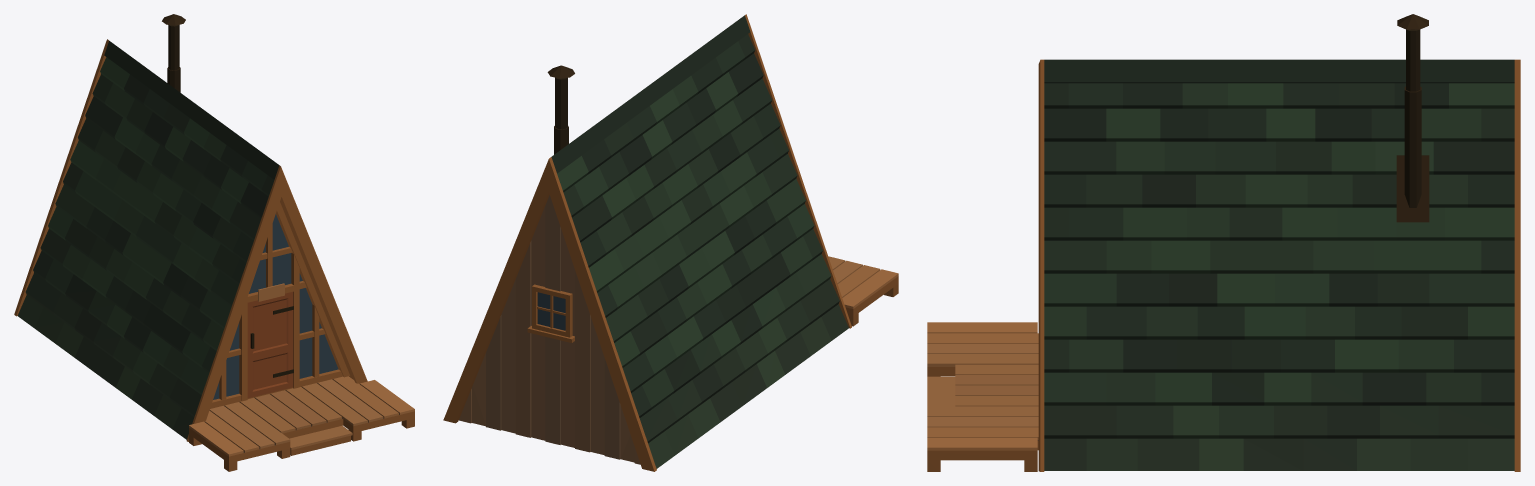
File: a-frame-cabin-6cb550.glb
3 views of the same model, side by side, from view 1: azimuth 30°, elevation 25°; view 2: azimuth 150°, elevation 25°; view 3: azimuth 270°, elevation 25° (orthographic). The views are drawn at different scales.
Parts seen in each view (by area): view 1: shell, door-leaf; view 2: shell; view 3: shell.
Part boxes in pixels (x1,y1,x2,y2): shell: (14, 14, 414, 471); door-leaf: (247, 292, 293, 398); shell: (443, 14, 898, 471); shell: (927, 14, 1520, 471).
Size of the model in its own units: 4 by 6.16 by 8.
